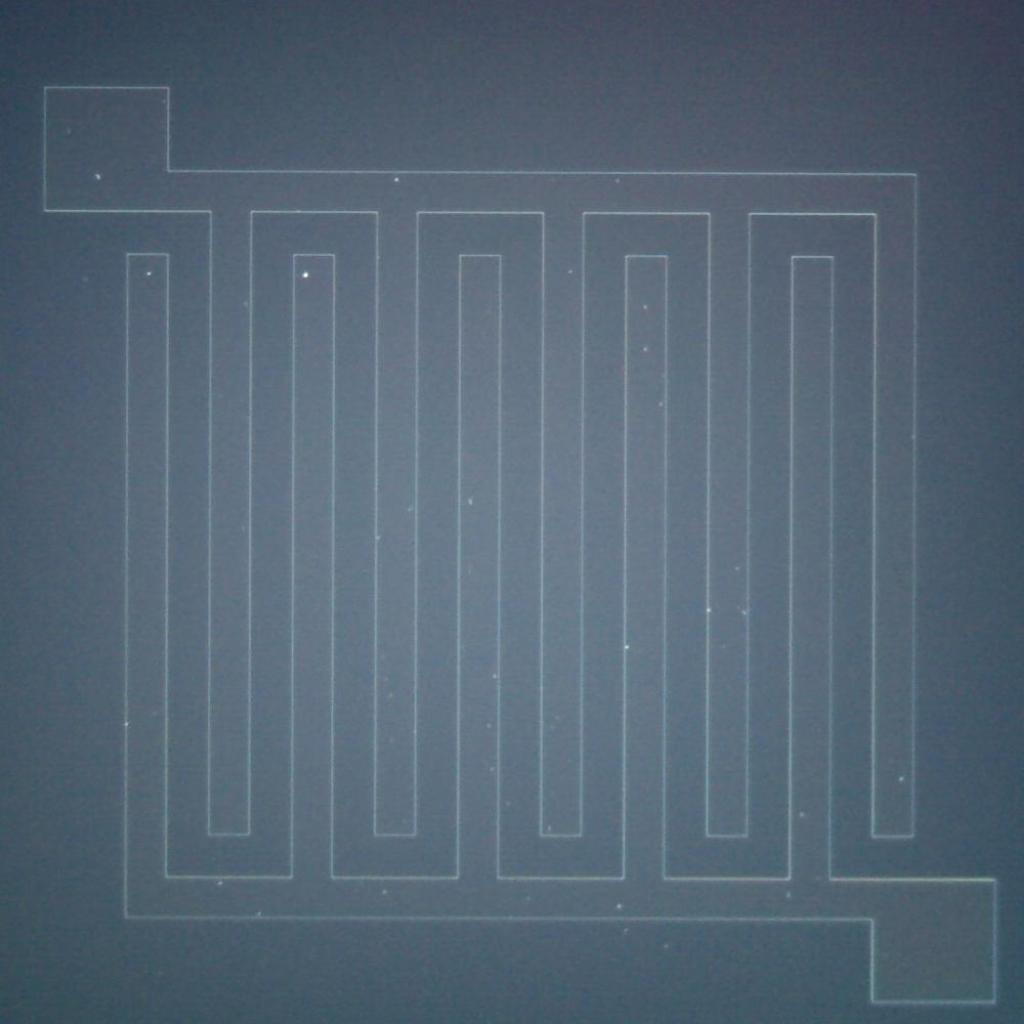dot: (301, 270, 309, 278)
